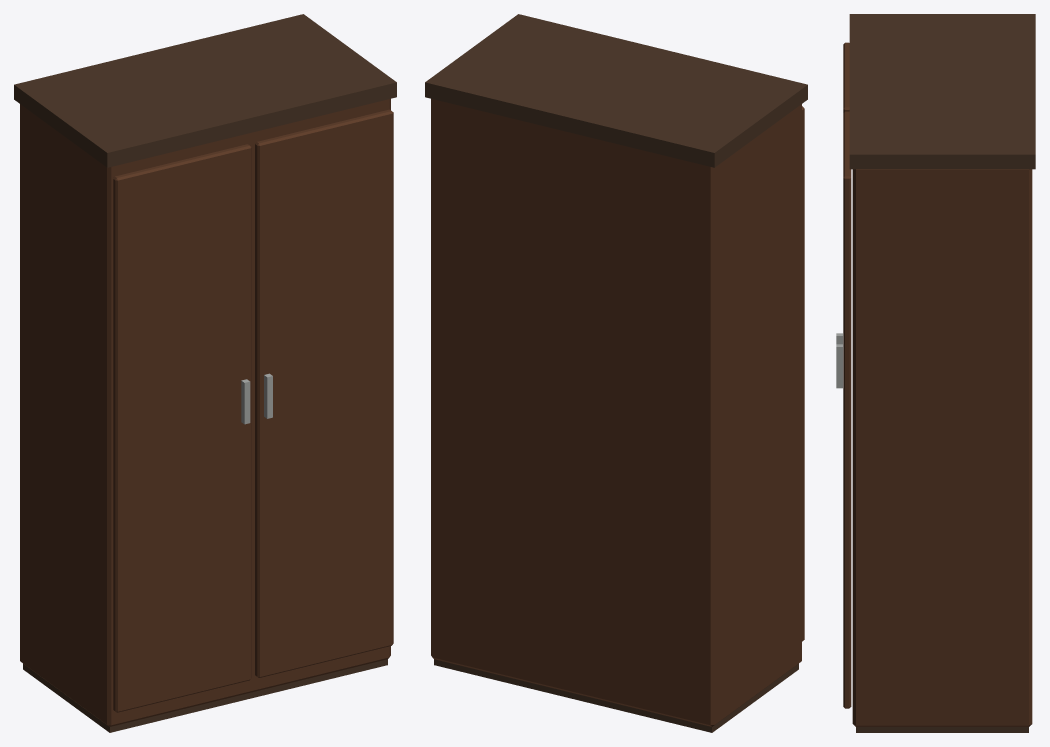
Rendered from wardrobe.glb.
The picture shows the model from 3 angles, left to right: view 1: azimuth 30°, elevation 25°; view 2: azimuth 150°, elevation 25°; view 3: azimuth 270°, elevation 25°; orthographic projection.
Visible parts, largest first — view 1: Wardrobe, anim_door_R, anim_door_L; view 2: Wardrobe, anim_door_R; view 3: Wardrobe, anim_door_L, anim_door_R.
Part boxes in pixels (x1,y1,x2,y2): Wardrobe: (14,14,396,732); anim_door_R: (113,144,251,712); anim_door_L: (255,109,393,677); Wardrobe: (425,14,807,732); anim_door_R: (802,106,804,641); Wardrobe: (849,14,1035,732); anim_door_L: (836,111,851,708); anim_door_R: (836,42,849,344).
Size of the model in its own units: 1.02 by 1.97 by 0.61.
